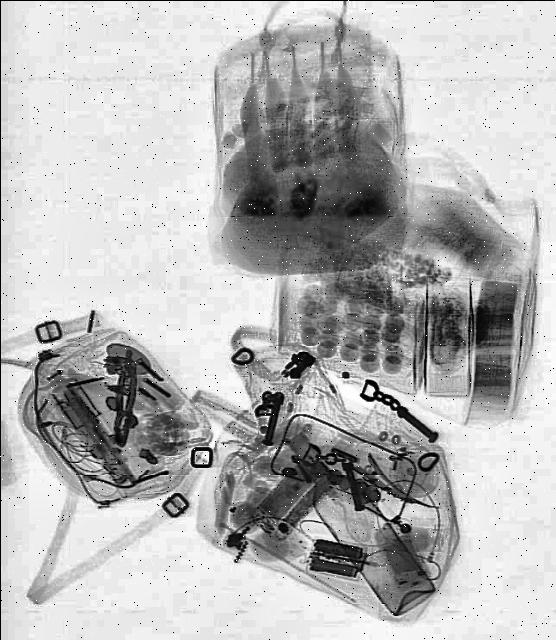Pliers: (108, 361, 138, 445)
